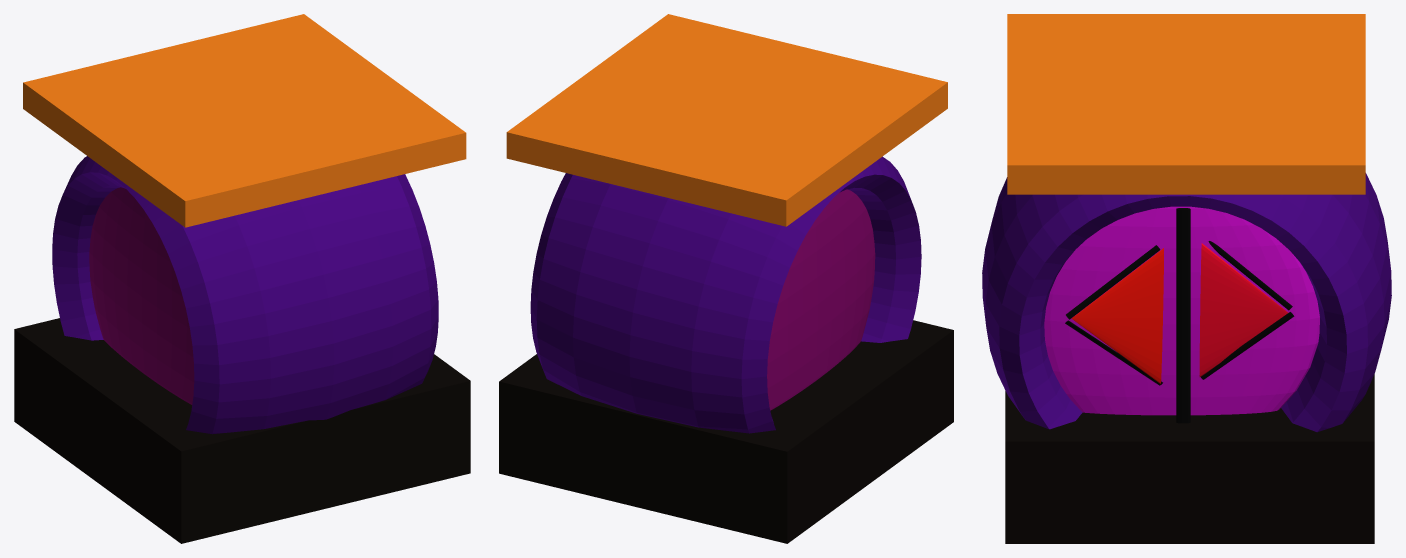
The model's file is House.fbx.
The picture shows the model from 3 angles, left to right: view 1: azimuth 30°, elevation 25°; view 2: azimuth 150°, elevation 25°; view 3: azimuth 270°, elevation 25°; orthographic projection. The views are drawn at different scales.
Parts seen in each view (by area): view 1: Тор, Platfopm, Куб.001, Сфера.001; view 2: Тор, Platfopm, Куб.001, Сфера.001; view 3: Platfopm, Куб.001, Тор, Сфера.002, Конус, Конус.001, Цилиндр, Цилиндр.004, Цилиндр.002, Цилиндр.001, Цилиндр.003.
Part boxes in pixels (x1=…): Тор: x1=52, y1=156, x2=438, y2=434; Platfopm: x1=23, y1=14, x2=466, y2=227; Куб.001: x1=14, y1=318, x2=470, y2=543; Сфера.001: x1=89, y1=187, x2=194, y2=404; Тор: x1=530, y1=156, x2=921, y2=433; Platfopm: x1=506, y1=14, x2=947, y2=226; Куб.001: x1=499, y1=320, x2=953, y2=543; Сфера.001: x1=767, y1=189, x2=875, y2=410; Platfopm: x1=1007, y1=14, x2=1365, y2=194; Куб.001: x1=1005, y1=374, x2=1374, y2=543; Тор: x1=982, y1=173, x2=1391, y2=432; Сфера.002: x1=1044, y1=206, x2=1319, y2=415; Конус: x1=1071, y1=248, x2=1163, y2=383; Конус.001: x1=1199, y1=243, x2=1288, y2=376; Цилиндр: x1=1176, y1=208, x2=1190, y2=423; Цилиндр.004: x1=1066, y1=245, x2=1160, y2=319; Цилиндр.002: x1=1201, y1=312, x2=1294, y2=379; Цилиндр.001: x1=1208, y1=241, x2=1292, y2=310; Цилиндр.003: x1=1065, y1=320, x2=1162, y2=385.
Bounding box in the file's own units: 270 × 304 × 299.
